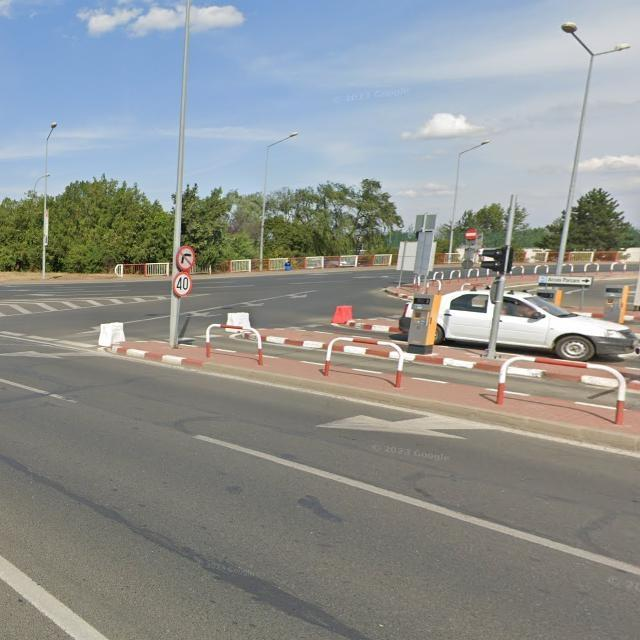forb_speed_over_40: (173, 272, 193, 298)
